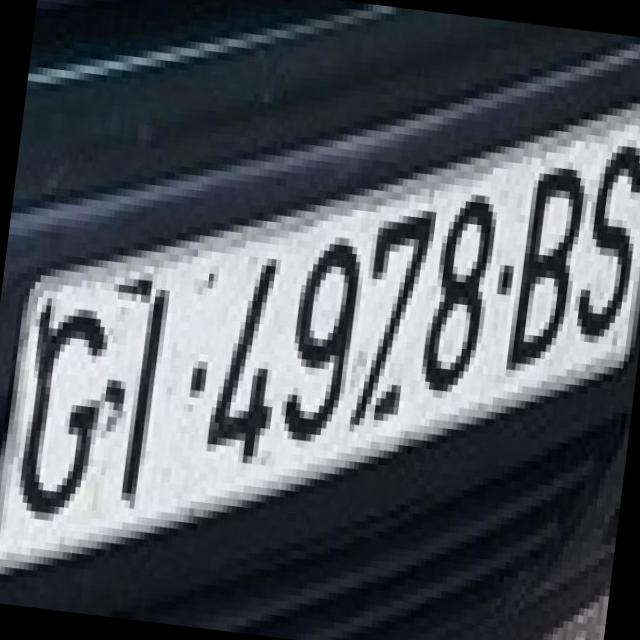1: (87, 254, 187, 511)
4: (191, 223, 303, 466)
7: (336, 174, 439, 424)
8: (410, 168, 506, 396)
9: (268, 202, 370, 444)
B: (498, 134, 590, 368)
G: (0, 271, 119, 518)
S: (556, 118, 640, 346)
